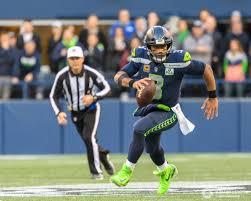americanFootball: (136, 80, 154, 106)
